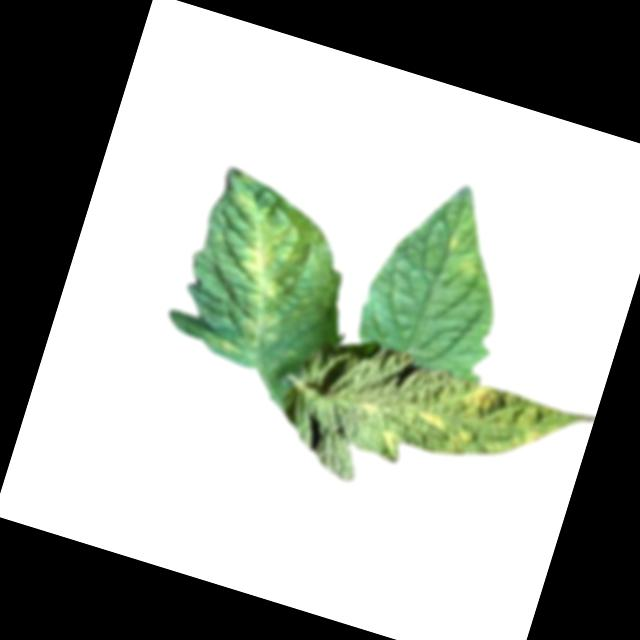Leaf_Mold: (191, 190, 324, 374), (404, 366, 577, 487), (438, 230, 492, 284)
